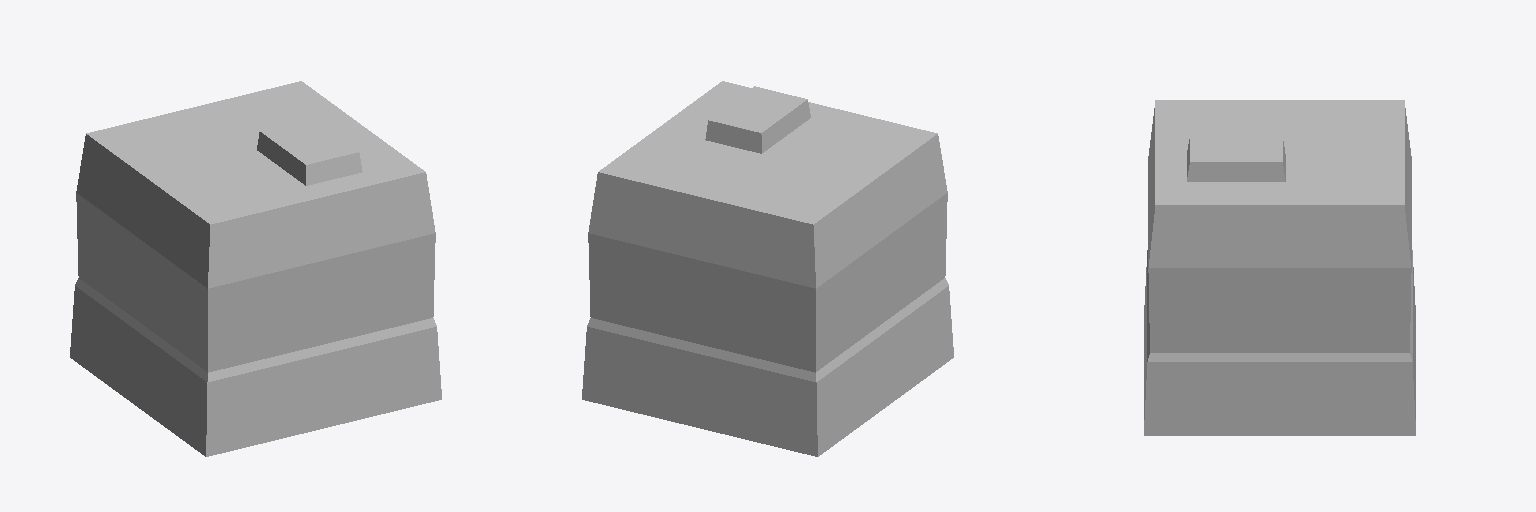
Rendered from flat3.obj.
3 views of the same model, side by side, from view 1: azimuth 30°, elevation 25°; view 2: azimuth 150°, elevation 25°; view 3: azimuth 270°, elevation 25° (orthographic).
Size of the model in its own units: 1.09 by 1.09 by 1.09.